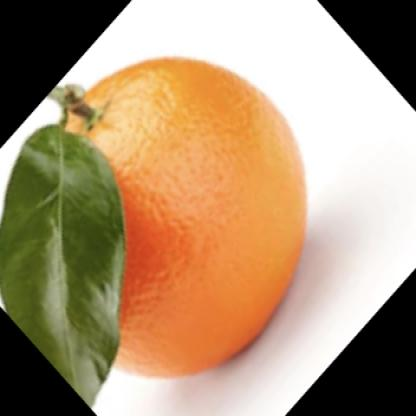fresh: (44, 58, 306, 377)
